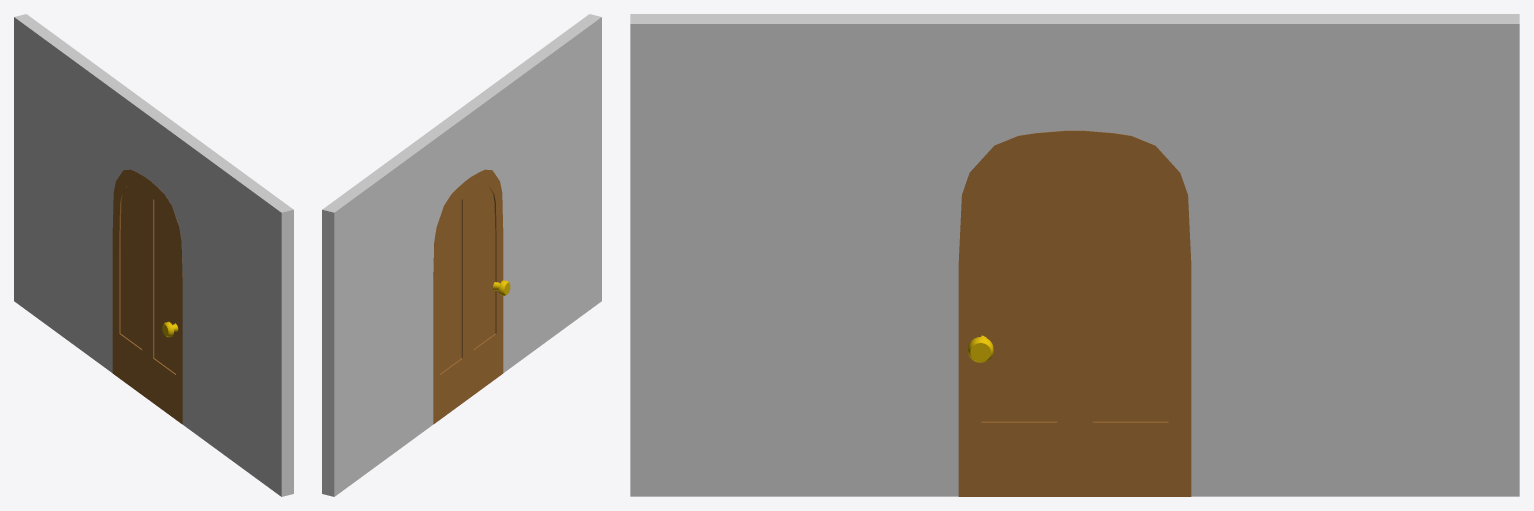
File: doorway.fbx
3 renders of one model, left to right at view 1: azimuth 30°, elevation 25°; view 2: azimuth 150°, elevation 25°; view 3: azimuth 270°, elevation 25°, orthographic. The views are drawn at different scales.
Parts seen in each view (by area): view 1: WallWithDoorHole, Door; view 2: WallWithDoorHole, Door; view 3: WallWithDoorHole, Door.
Part boxes in pixels (x1,y1,x2,y2): WallWithDoorHole: (14,14,293,496); Door: (112,169,182,424); WallWithDoorHole: (322,14,601,496); Door: (433,169,510,424); WallWithDoorHole: (630,14,1519,496); Door: (958,130,1191,496).
Bounding box in the file's own units: 1473 × 109 × 864.
